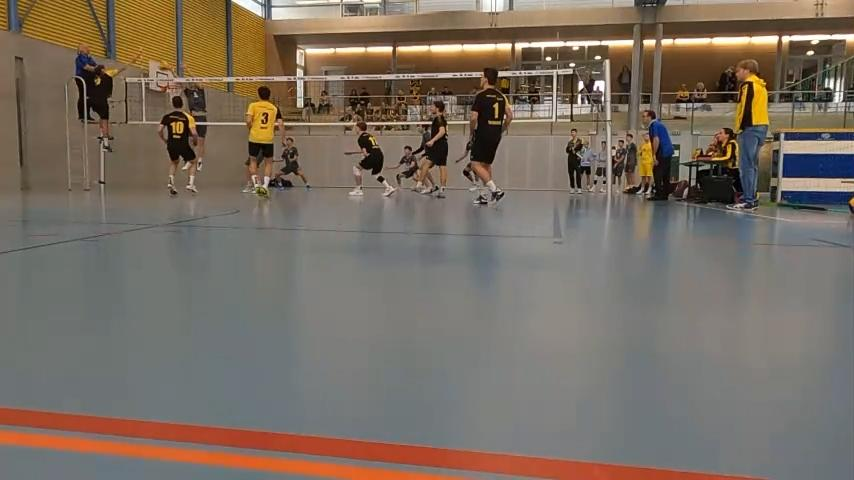attacco: (84, 50, 147, 154)
muro: (169, 61, 217, 176)
